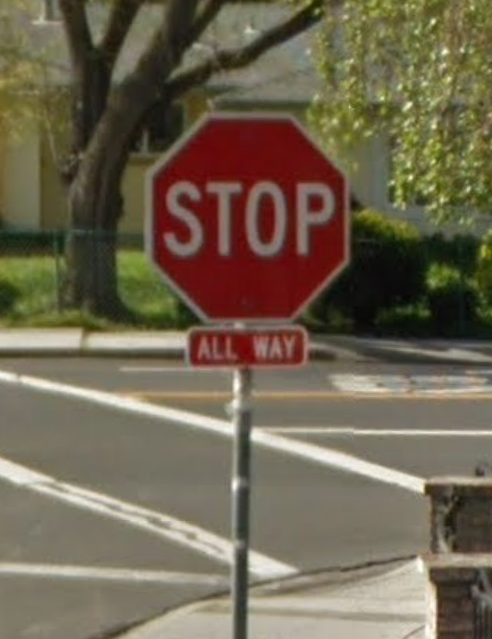stop_sign: (145, 116, 348, 324)
